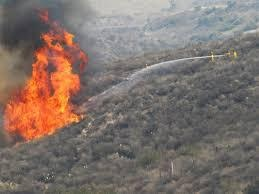fire: (4, 16, 84, 140)
